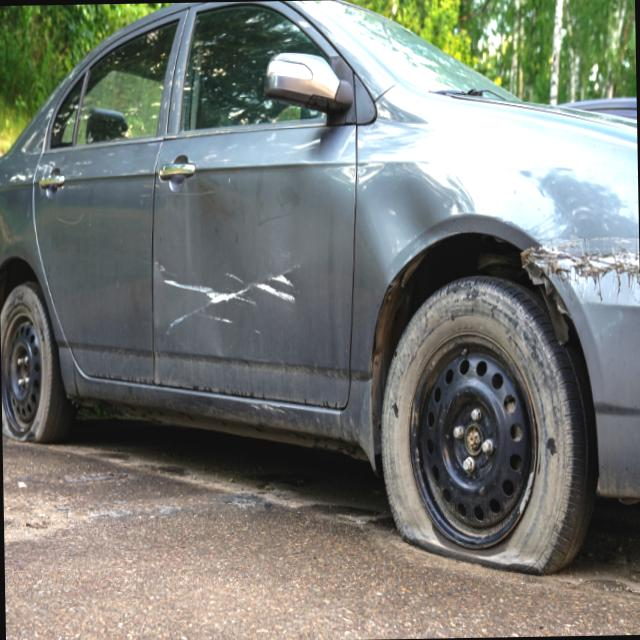Cabossage: (204, 323, 234, 364)
Dechirure: (524, 229, 640, 308)
Rayure: (153, 255, 309, 343), (54, 211, 93, 226)
